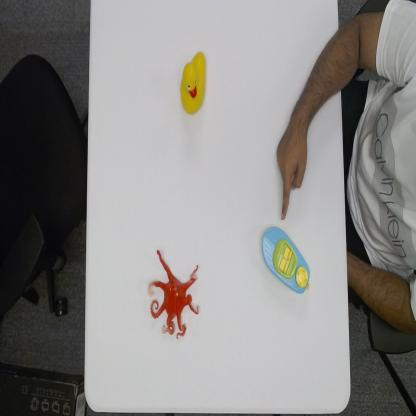Arm: (299, 14, 367, 106)
Boat: (260, 224, 312, 295)
Duck: (179, 49, 207, 116)
Hand: (275, 109, 309, 222)
Octopus: (146, 248, 200, 341)
